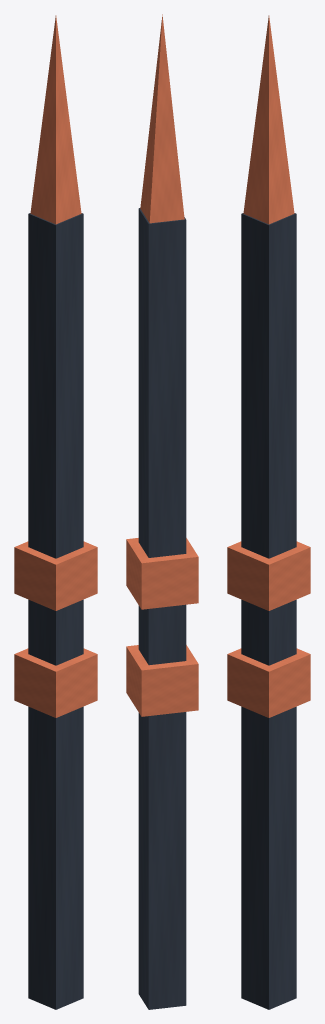
Rendered from atlas100-s021-a05.lod1.glb.
3 renders of one model, left to right at view 1: azimuth 90°, elevation 25°; view 2: azimuth 150°, elevation 25°; view 3: azimuth 270°, elevation 25°, orthographic.
Visible parts, largest first — view 1: atlas100-s021-a05:part-000, atlas100-s021-a05:part-004, atlas100-s021-a05:part-002, atlas100-s021-a05:part-003; view 2: atlas100-s021-a05:part-000, atlas100-s021-a05:part-004, atlas100-s021-a05:part-002, atlas100-s021-a05:part-003; view 3: atlas100-s021-a05:part-000, atlas100-s021-a05:part-004, atlas100-s021-a05:part-002, atlas100-s021-a05:part-003.
Part boxes in pixels (left/top/right/bottom): atlas100-s021-a05:part-000: left=28, top=213, right=83, bottom=1009; atlas100-s021-a05:part-004: left=30, top=15, right=81, bottom=224; atlas100-s021-a05:part-002: left=14, top=648, right=97, bottom=717; atlas100-s021-a05:part-003: left=14, top=541, right=97, bottom=610; atlas100-s021-a05:part-000: left=138, top=208, right=186, bottom=1009; atlas100-s021-a05:part-004: left=140, top=14, right=184, bottom=223; atlas100-s021-a05:part-002: left=126, top=645, right=198, bottom=716; atlas100-s021-a05:part-003: left=126, top=538, right=198, bottom=609; atlas100-s021-a05:part-000: left=241, top=213, right=296, bottom=1009; atlas100-s021-a05:part-004: left=243, top=15, right=294, bottom=224; atlas100-s021-a05:part-002: left=227, top=648, right=310, bottom=717; atlas100-s021-a05:part-003: left=227, top=541, right=310, bottom=610.
Size of the model in its own units: 0.1158 by 1.51 by 0.1158.
2 materials, 2 textured.
